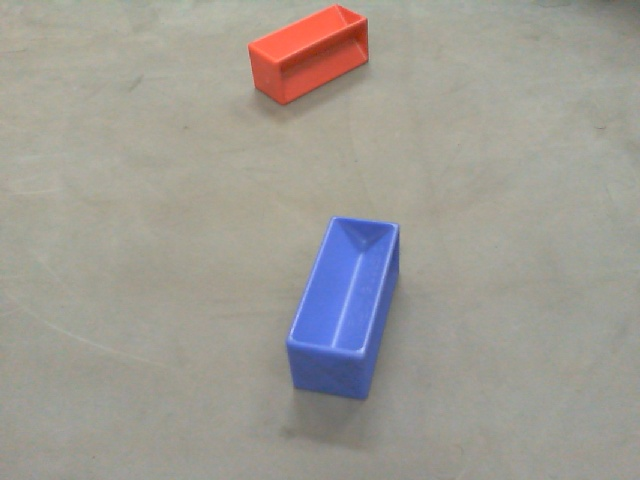BlueSample: (283, 211, 410, 402)
RedSample: (243, 2, 370, 108)
